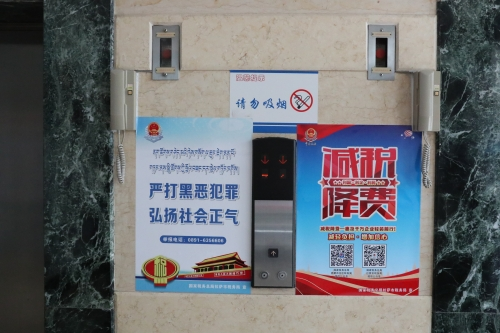bill: (295, 123, 419, 297), (136, 116, 252, 294), (230, 70, 318, 134)
